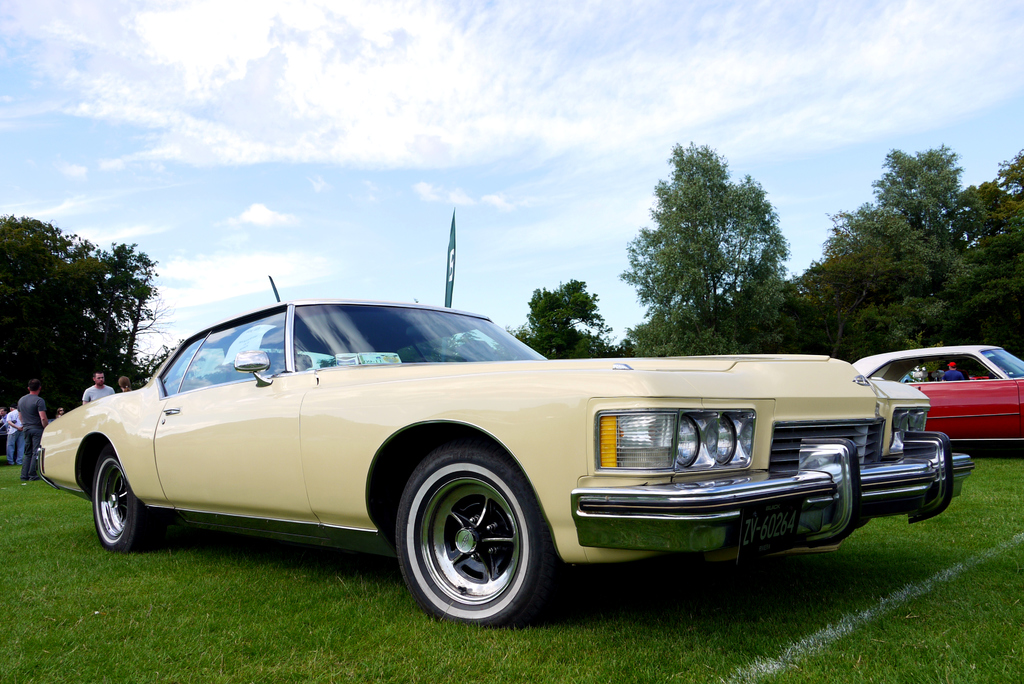Car: (35, 276, 979, 630), (853, 340, 1023, 447)
